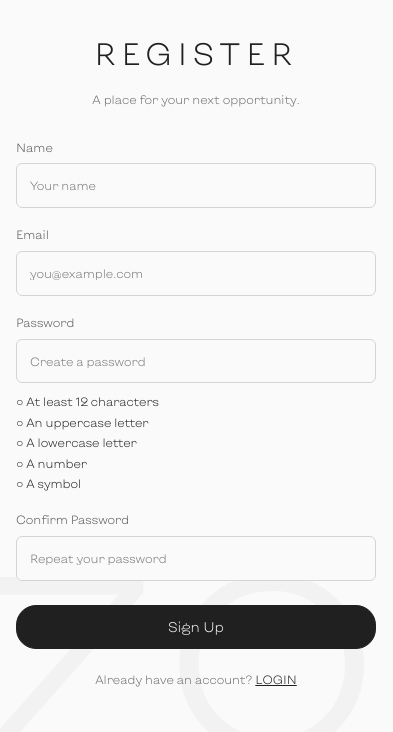
Test: signup failure preserves fields and remains on registration
This screenshot has width=393, height=732.
In the field labelled "Name": [196, 186] box x1=16 y1=163 x2=376 y2=208, type "Synthetic Test"
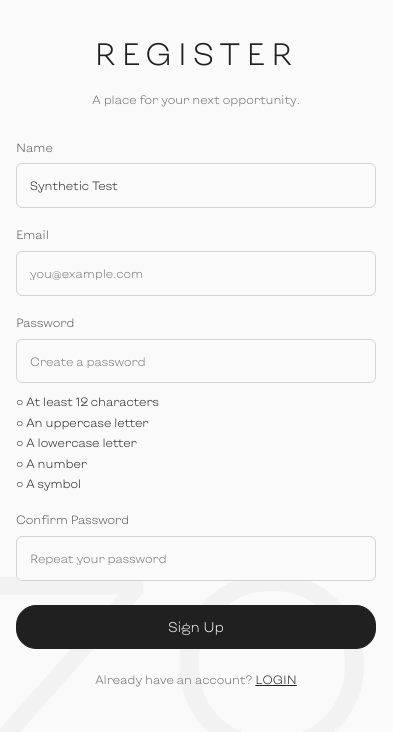
In the field labelled "Email": [196, 273] box x1=16 y1=251 x2=376 y2=296, type "synthetic@example.invalid"
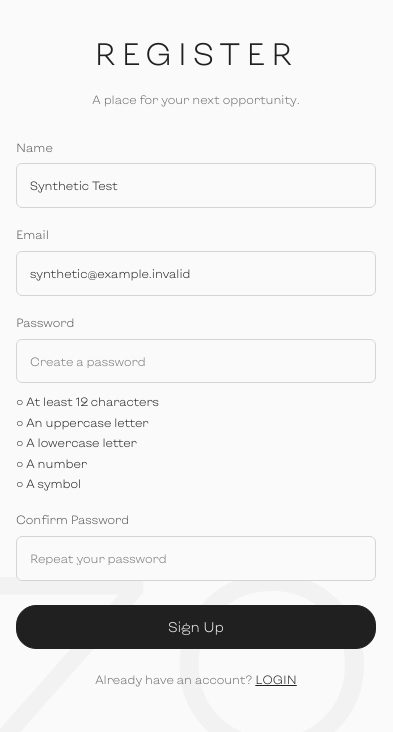
In the password field labelled "Password": [196, 361] box x1=16 y1=339 x2=376 y2=383, type "Synthetic-Test26!"
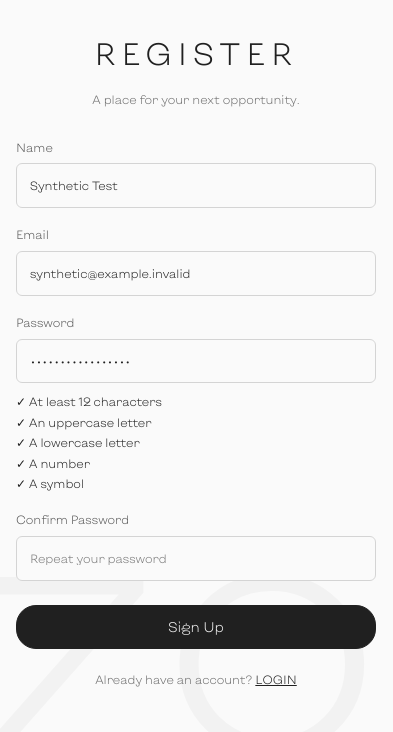
In the password field labelled "Confirm Password": [196, 558] box x1=16 y1=536 x2=376 y2=581, type "Synthetic-Test26!"
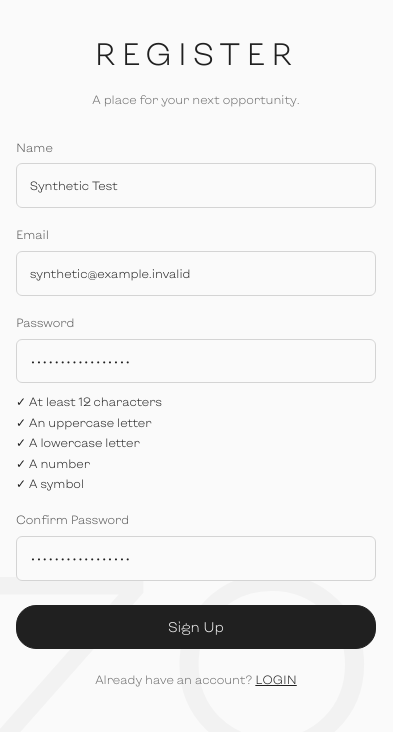
Submit the form named "Sign Up"
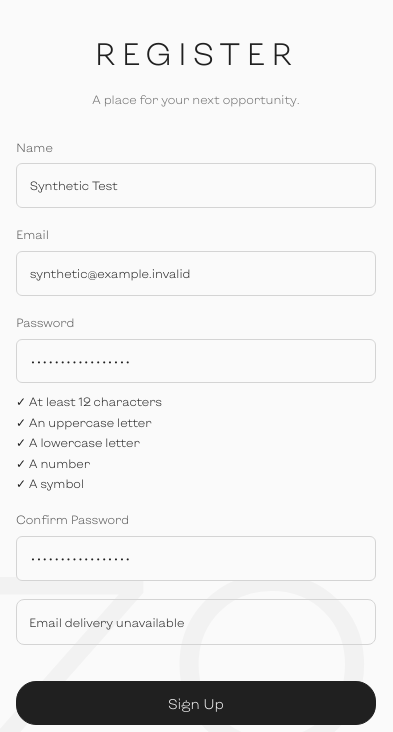
expect the message reads "Email delivery unavailable": met, box x1=29 y1=615 x2=184 y2=629
